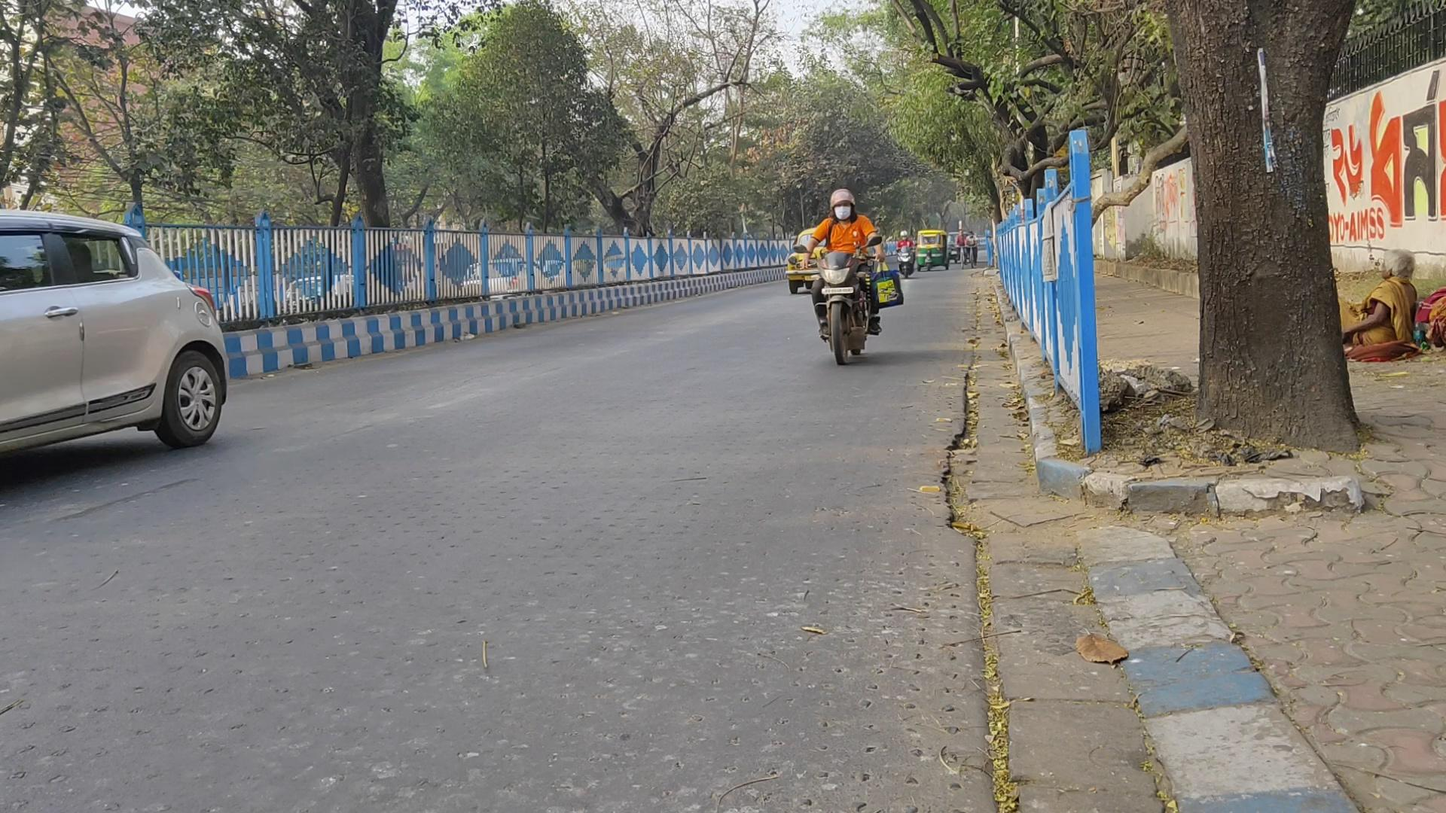Auto: (916, 229, 950, 273)
bike: (795, 186, 893, 367), (897, 230, 918, 281), (966, 230, 981, 269), (953, 230, 966, 269)
car: (1, 208, 230, 465), (785, 227, 860, 296)
